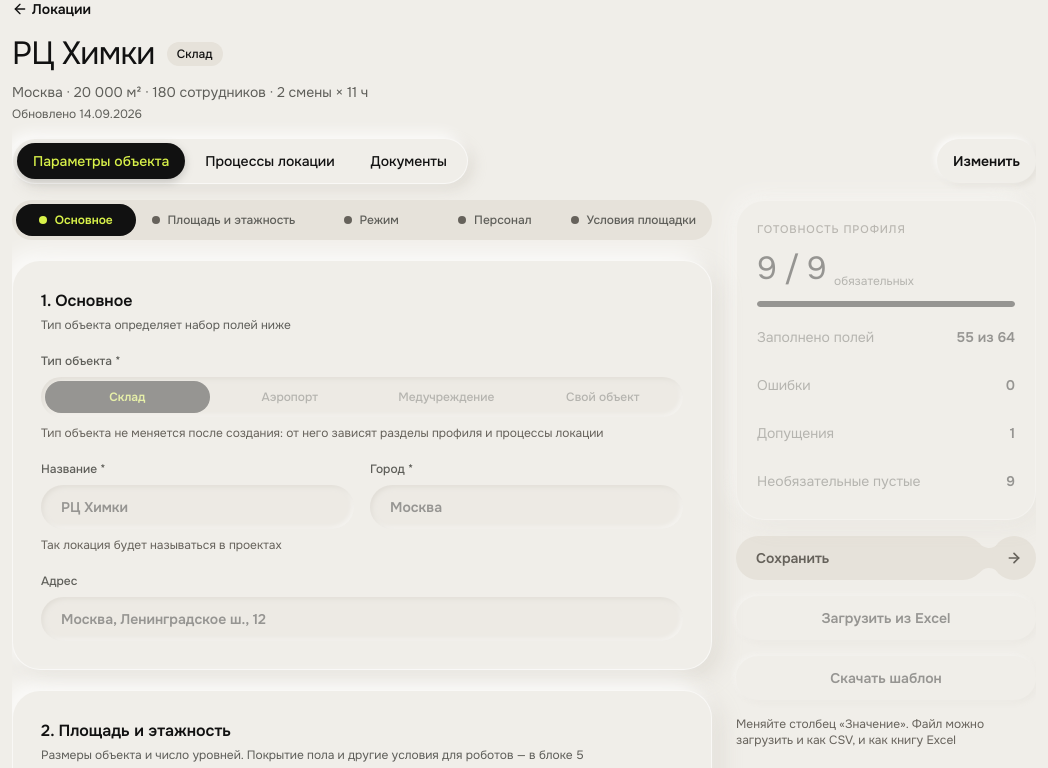
Test: LocationParamsPage (экран 17а) › edits and saves the profile, then returns to view mode with the new values
Click the button with aria-label "Изменить параметры объекта" at (987, 161), box [937, 139, 1036, 183]
(page scrolled)
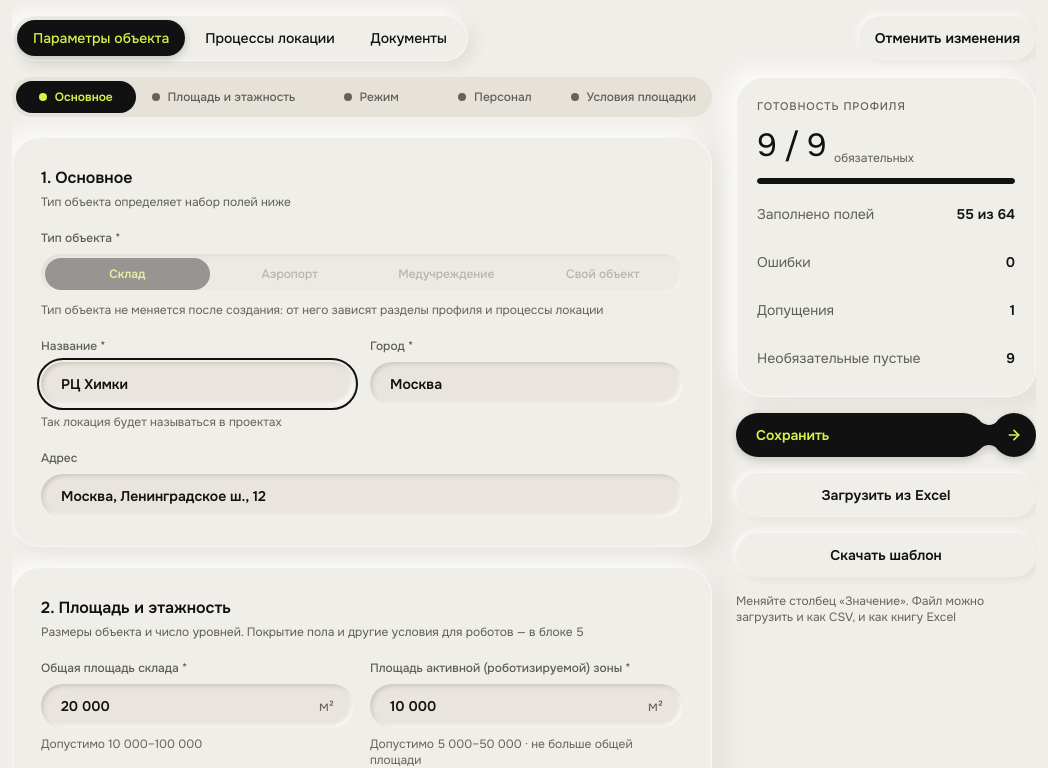
Replace the text in the field labelled "Название *" with "РЦ Химки-Север" at (198, 384), box [61, 374, 334, 394]
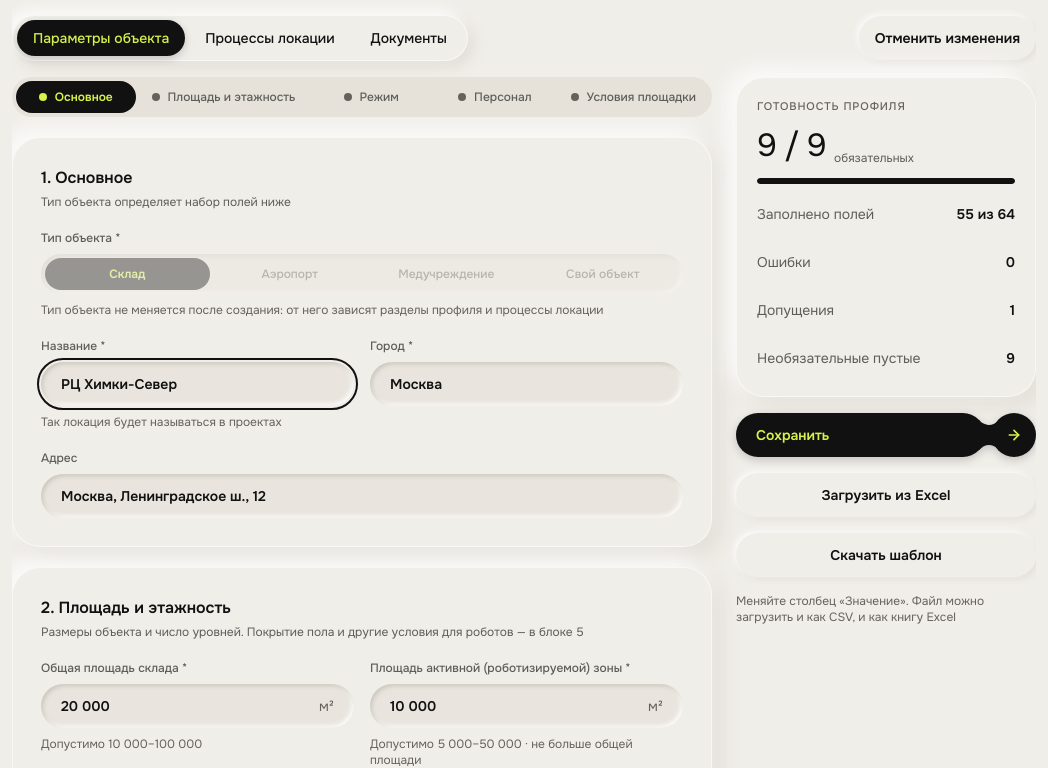
Click the button "Сохранить" at (886, 435), box [736, 413, 1036, 457]
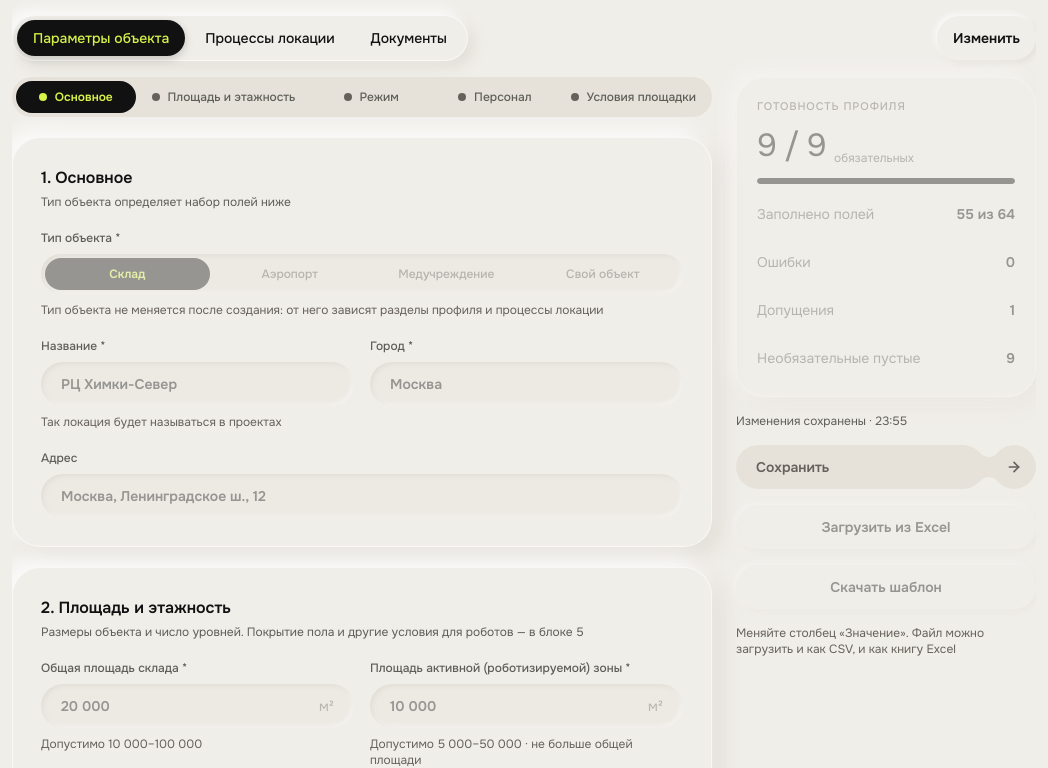
Expected: the field labelled "Название *" is disabled, [61, 374, 334, 394]
Expected: the message reads "Изменения сохранены · 23:55", [736, 413, 907, 429]
